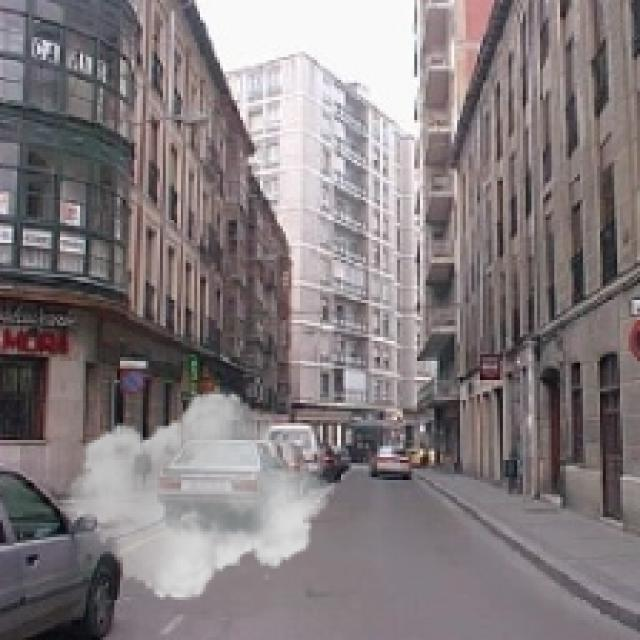smoke: (60, 383, 334, 608)
